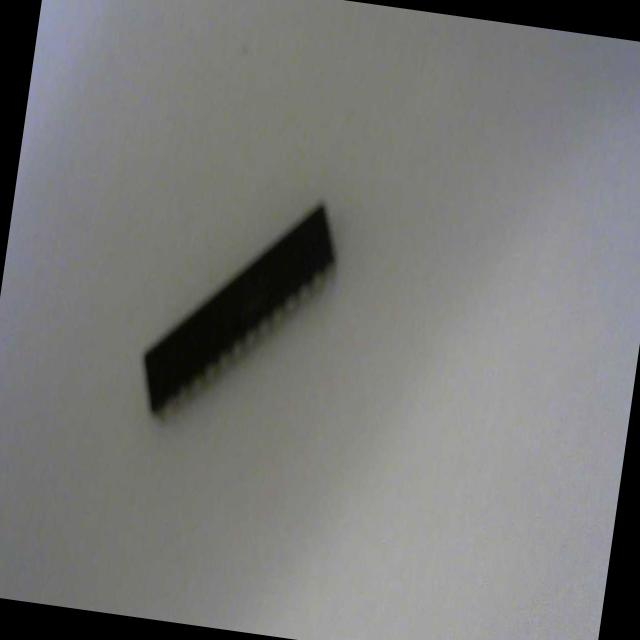atmega: (132, 176, 346, 442)
